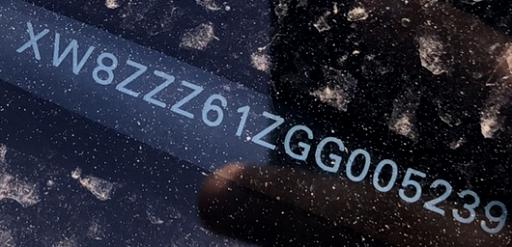letter: (51, 29, 95, 77), (13, 18, 49, 60), (250, 109, 284, 150), (115, 57, 147, 99), (312, 134, 346, 172), (170, 79, 202, 119), (142, 67, 174, 107), (421, 177, 453, 215), (283, 123, 315, 160), (478, 198, 510, 234), (398, 165, 426, 204), (450, 187, 480, 223), (344, 146, 372, 184), (91, 49, 119, 86), (199, 93, 227, 128), (372, 157, 398, 191), (233, 103, 251, 136)
